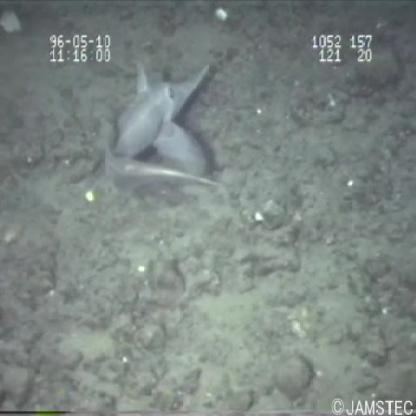Bio: (96, 52, 232, 194)
